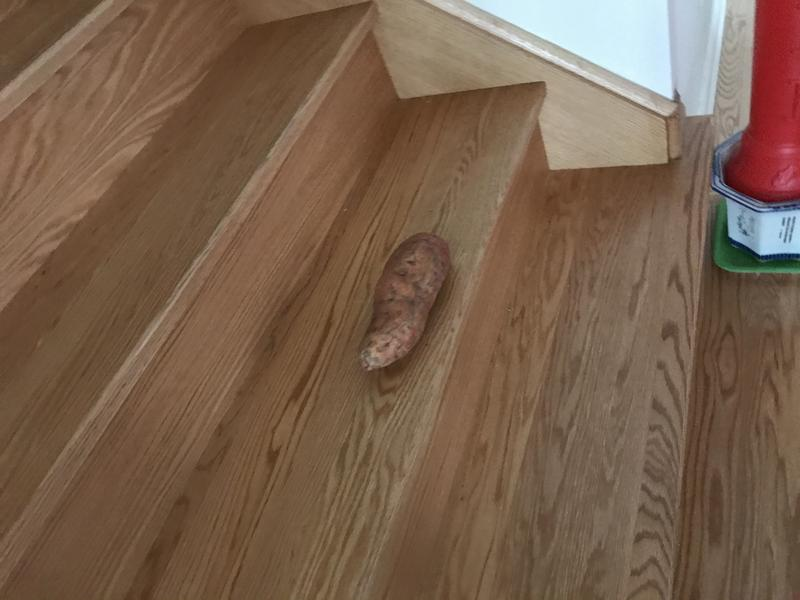sweet_potato: (353, 223, 455, 386)
